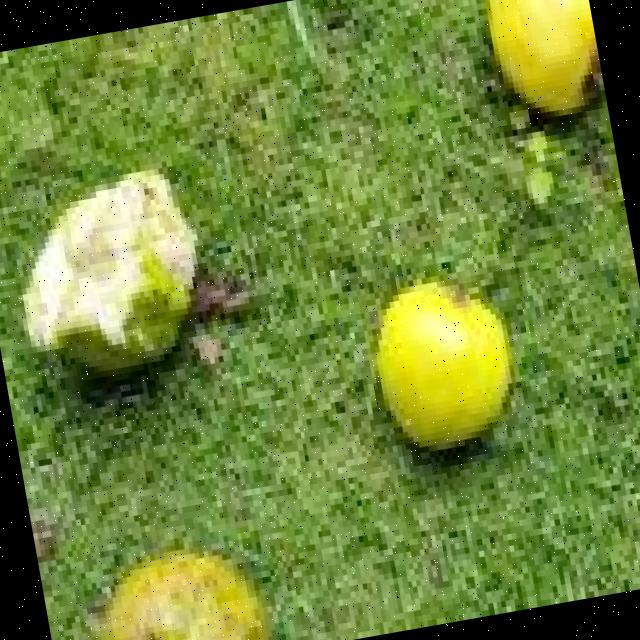Bad_Guava 0 day: (20, 174, 196, 376), (98, 552, 273, 640)
Good_Guava 5-7 days: (378, 280, 517, 458), (485, 0, 605, 124)
